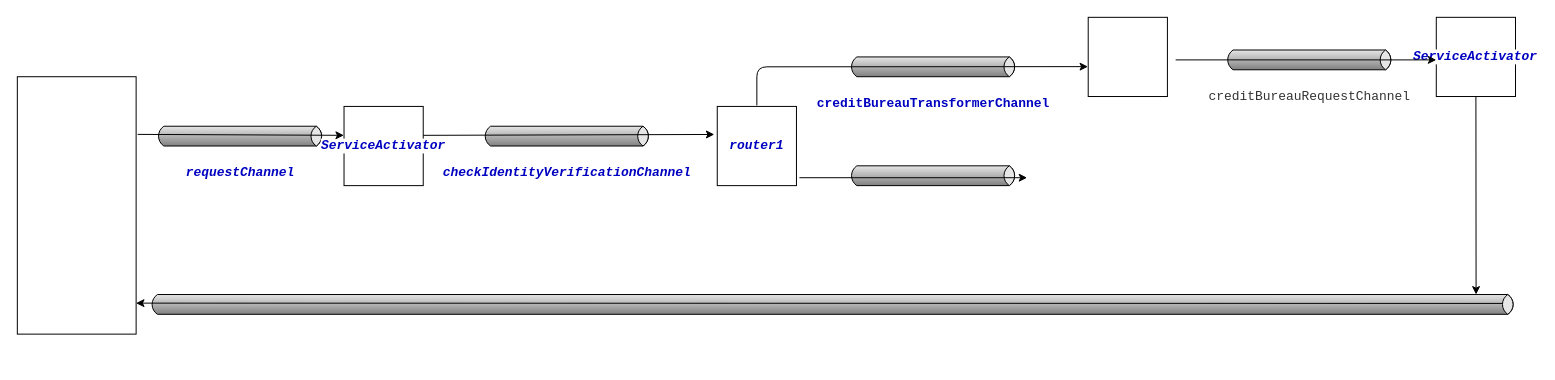
Some shapes in this 1555 by 380 pixel diagram are drawn without their labels. Here are the shapes that lost their labels. From the top down, the box of each, then its label:
(1087, 16, 1167, 97): Transformer
(848, 165, 1017, 186): errorChannel
(16, 76, 136, 334): gateway
(148, 294, 1516, 314): replyChannel
